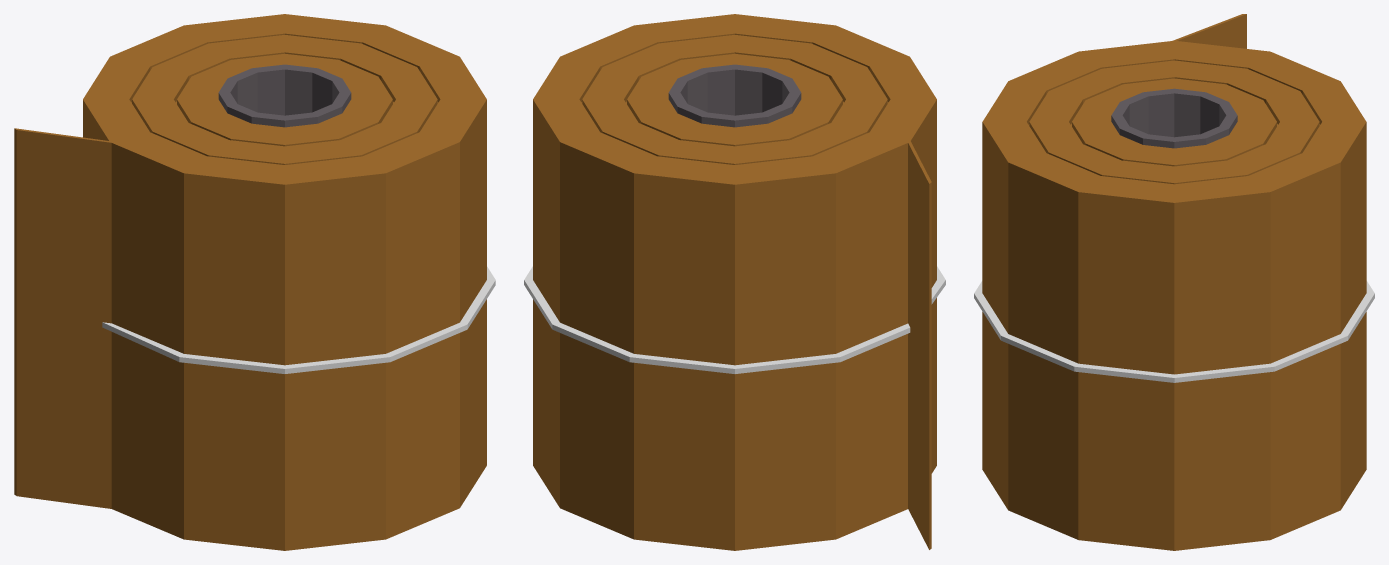
The model's file is Rol de carton (sale de la 3maquina de cartón).fbx.
3 views of the same model, side by side, from view 1: azimuth 30°, elevation 25°; view 2: azimuth 150°, elevation 25°; view 3: azimuth 270°, elevation 25° (orthographic). The views are drawn at different scales.
Parts seen in each view (by area): view 1: Cylinder.001; view 2: Cylinder.001; view 3: Cylinder.001.
Part boxes in pixels (<box>): Cylinder.001: <box>14,14,495,550</box>; Cylinder.001: <box>524,14,945,550</box>; Cylinder.001: <box>974,14,1374,550</box>.
Bounding box in the file's own units: 85.57 × 74.82 × 75.28.
